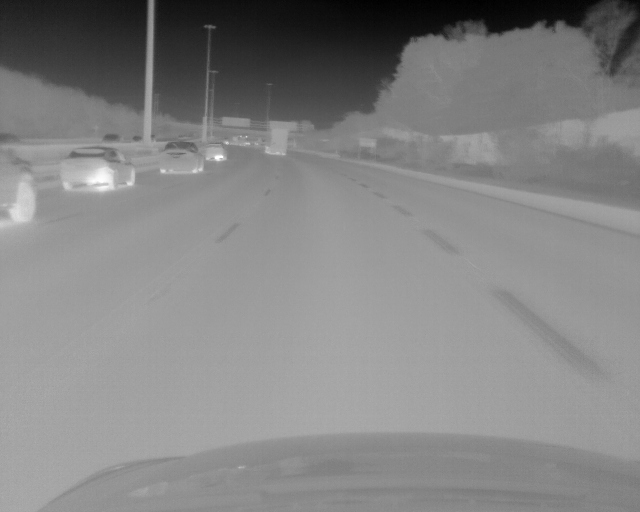car: (59, 148, 136, 191), (1, 149, 41, 224), (157, 141, 203, 173), (264, 129, 289, 156), (204, 143, 224, 162), (101, 133, 121, 141)
